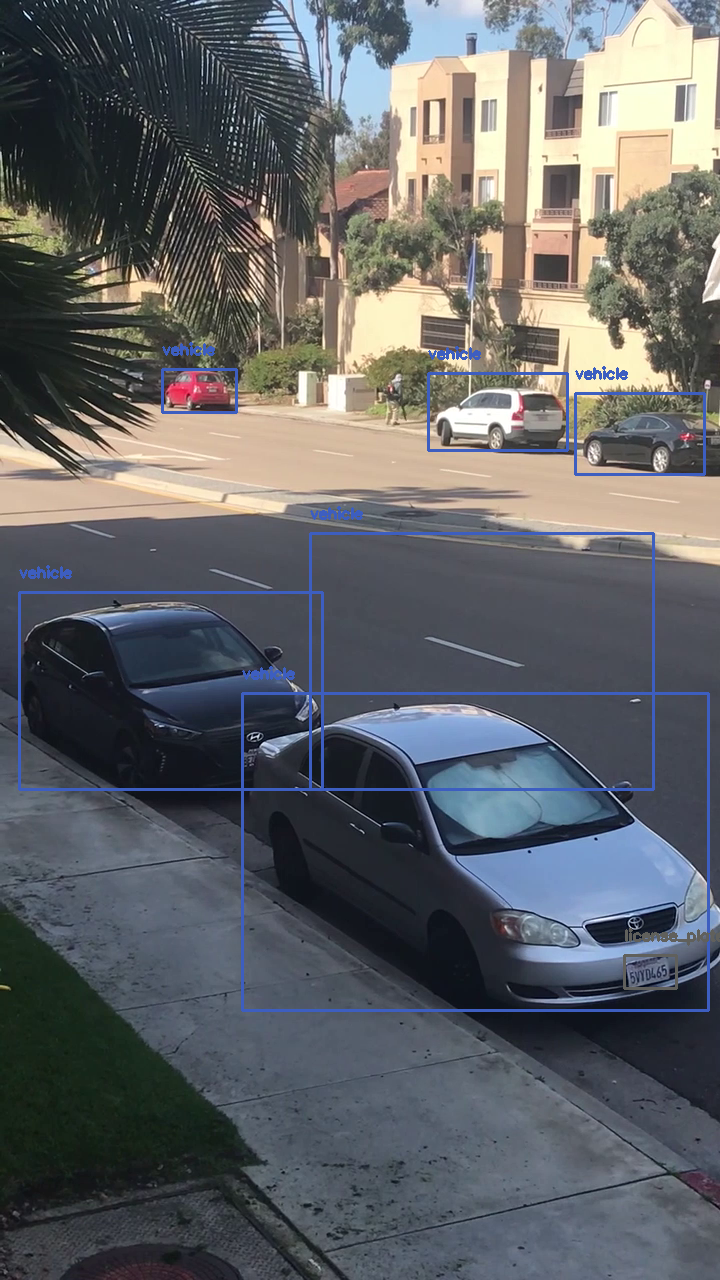license_plate: (624, 955, 676, 988)
vehicle: (242, 693, 708, 1010), (310, 533, 653, 789), (19, 592, 322, 789), (428, 373, 567, 450), (575, 393, 704, 474), (162, 369, 236, 412)
